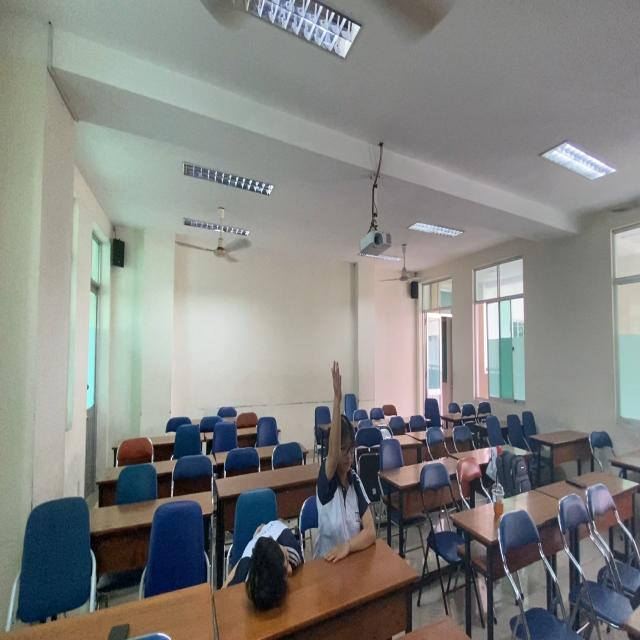raise_hand: (310, 355, 383, 572)
sleep: (224, 496, 309, 616)
